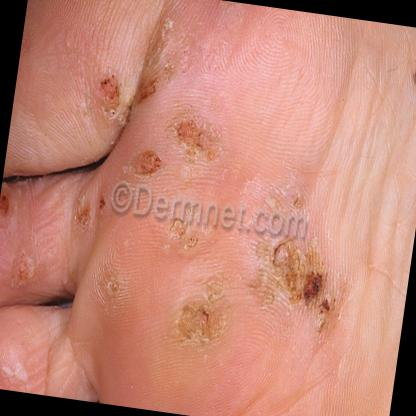Warts: (86, 64, 130, 126), (124, 135, 164, 182)
